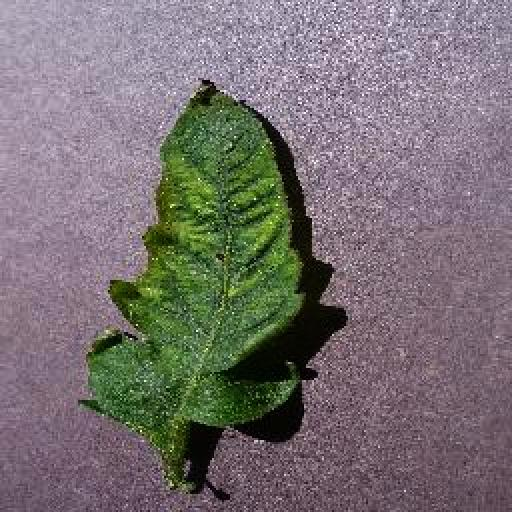Mosaic Virus: (78, 76, 306, 434)
